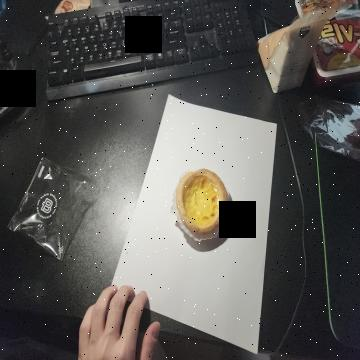EggTart: (176, 167, 228, 236)
